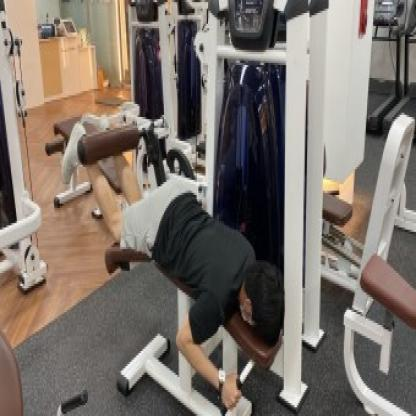reg curl machine: (57, 0, 309, 416)
